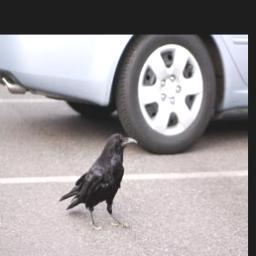Crow: (58, 130, 137, 230)
